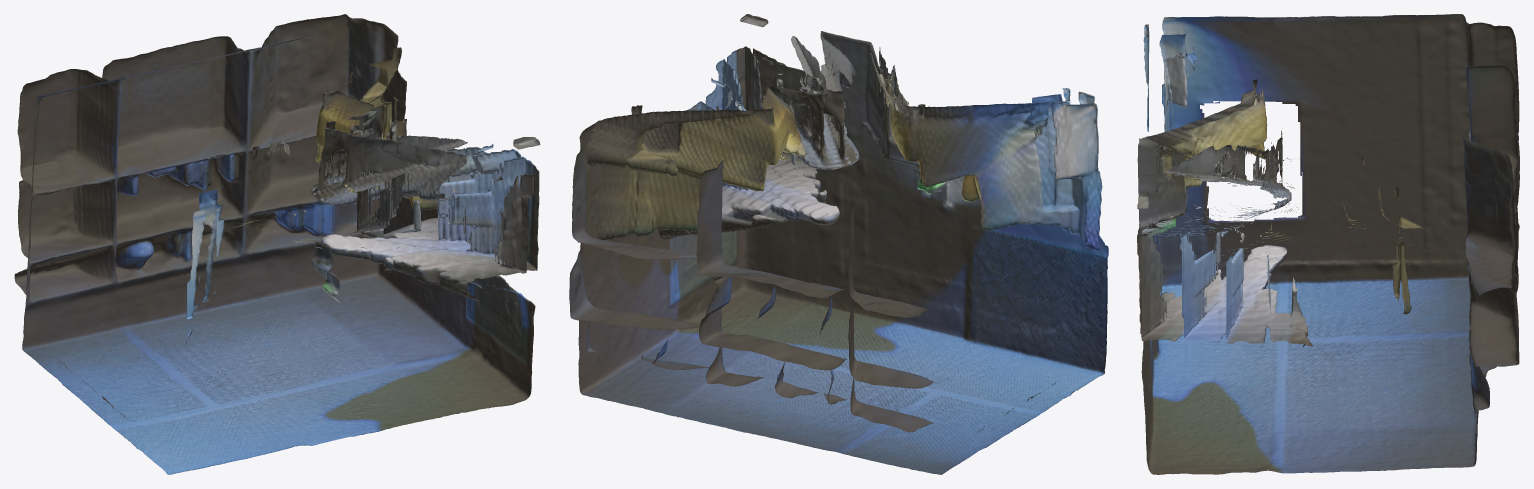
3 views of the same model, side by side, from view 1: azimuth 30°, elevation 25°; view 2: azimuth 150°, elevation 25°; view 3: azimuth 270°, elevation 25° (orthographic). The views are drawn at different scales.
Parts seen in each view (by area): view 1: world; view 2: world; view 3: world.
Boxes of the visible parts, bbox=[...] form: world: bbox=[14, 14, 540, 474]; world: bbox=[569, 14, 1108, 474]; world: bbox=[1137, 14, 1519, 474].
Size of the model in its own units: 3.09 by 2.24 by 2.68.
